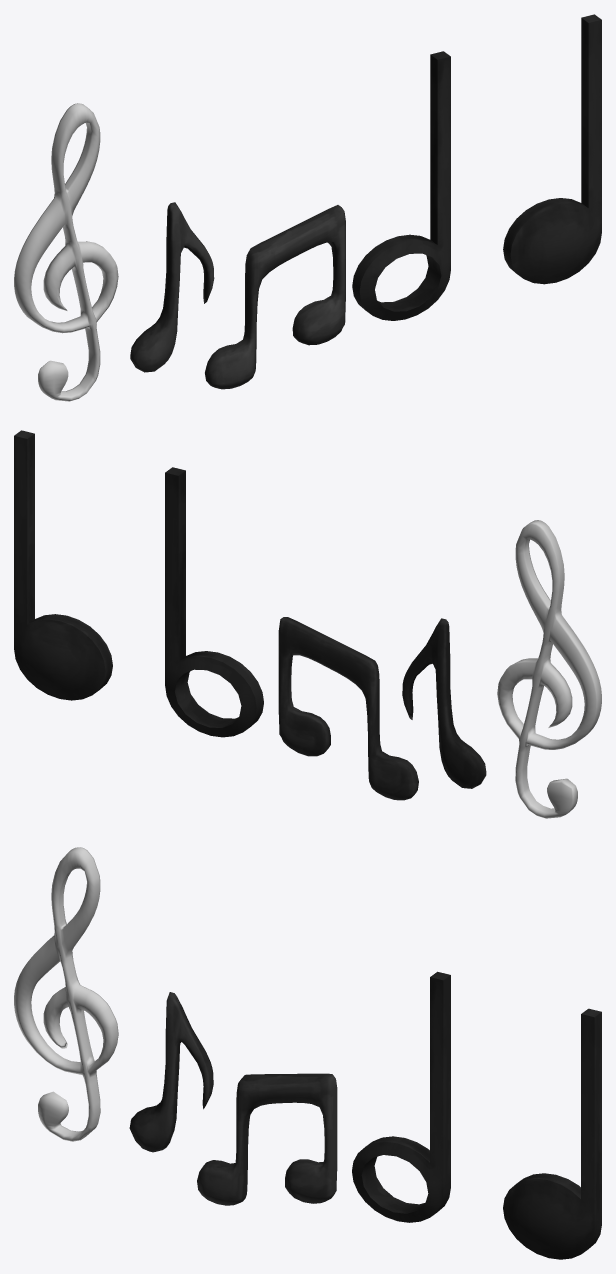
File: FiguritasMusicales.fbx
3 renders of one model, top to bottom at view 1: azimuth 30°, elevation 25°; view 2: azimuth 150°, elevation 25°; view 3: azimuth 330°, elevation 25°, orthographic.
Parts seen in each view (by area): view 1: Figura1, Figura5, Figura3, Figura4, Figura2; view 2: Figura1, Figura5, Figura3, Figura4, Figura2; view 3: Figura1, Figura5, Figura4, Figura3, Figura2.
Part boxes in pixels (x1,y1,x2,y2): Figura1: (14,103,118,401); Figura5: (503,14,601,284); Figura3: (205,205,345,389); Figura4: (352,51,450,320); Figura2: (130,202,214,372); Figura1: (497,520,601,818); Figura5: (14,430,112,700); Figura3: (278,617,418,800); Figura4: (165,467,263,737); Figura2: (402,618,486,788); Figura1: (14,847,118,1141); Figura5: (503,1008,601,1259); Figura4: (352,971,450,1222); Figura3: (197,1073,337,1205); Figura2: (129,992,213,1152).
Size of the model in its own units: 289 by 150 by 15.12.
